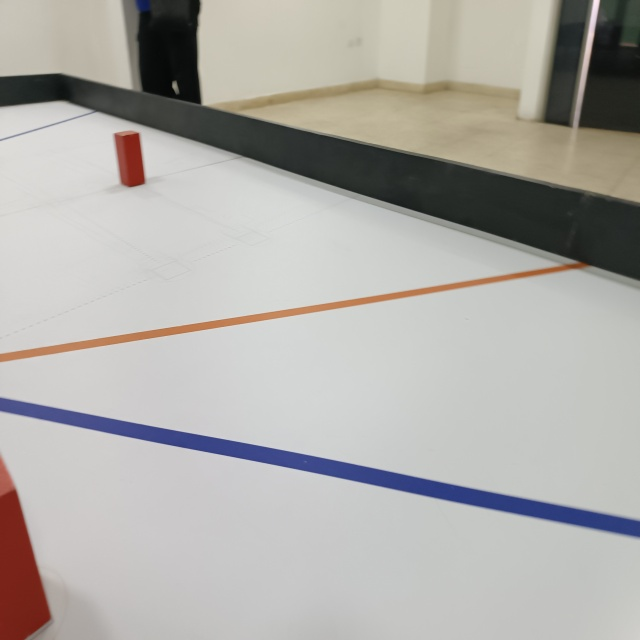blue line: (0, 392, 640, 541), (3, 107, 98, 142)
orange line: (1, 261, 590, 362)
red rectangular prism: (0, 458, 52, 640), (112, 129, 150, 188)
